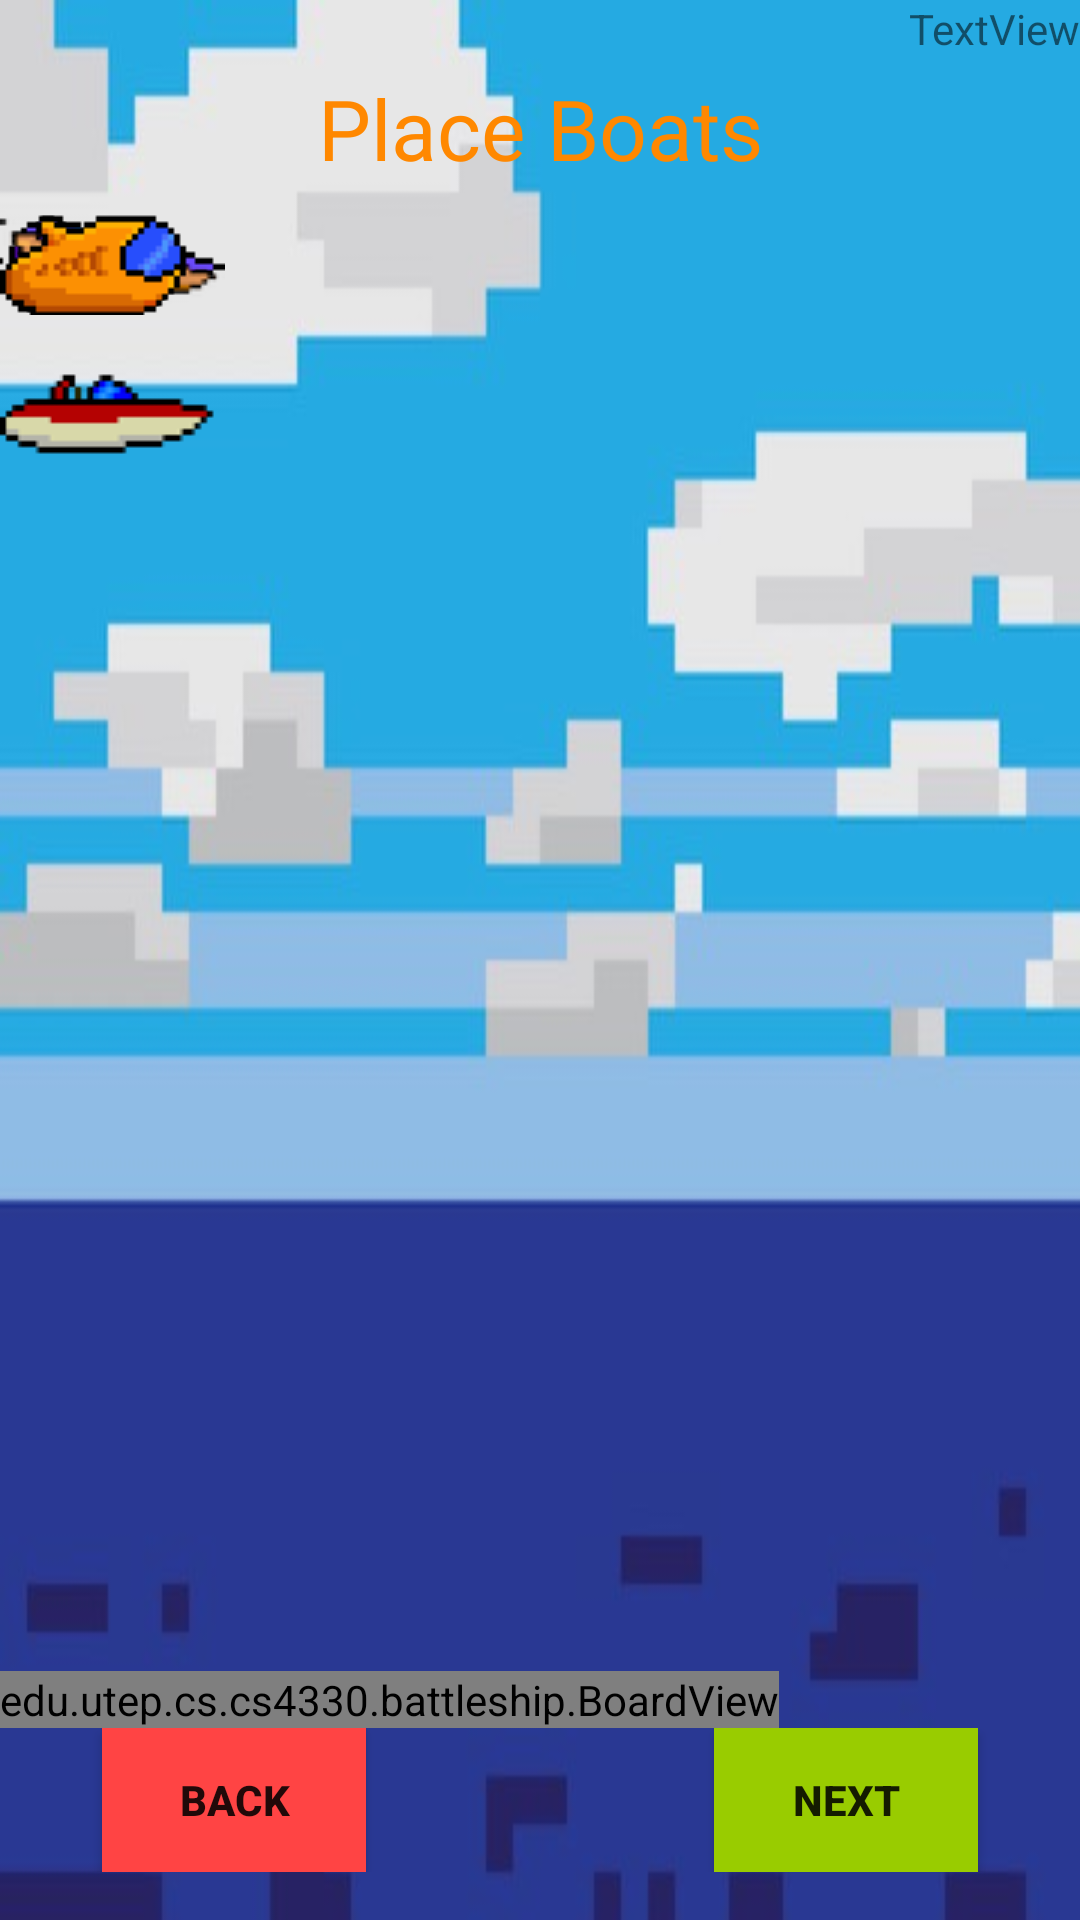

Point at icon controls on the screen. Image size 1080 x 1920, points as (x=x, y=y).
patrol: (x=112, y=412)
